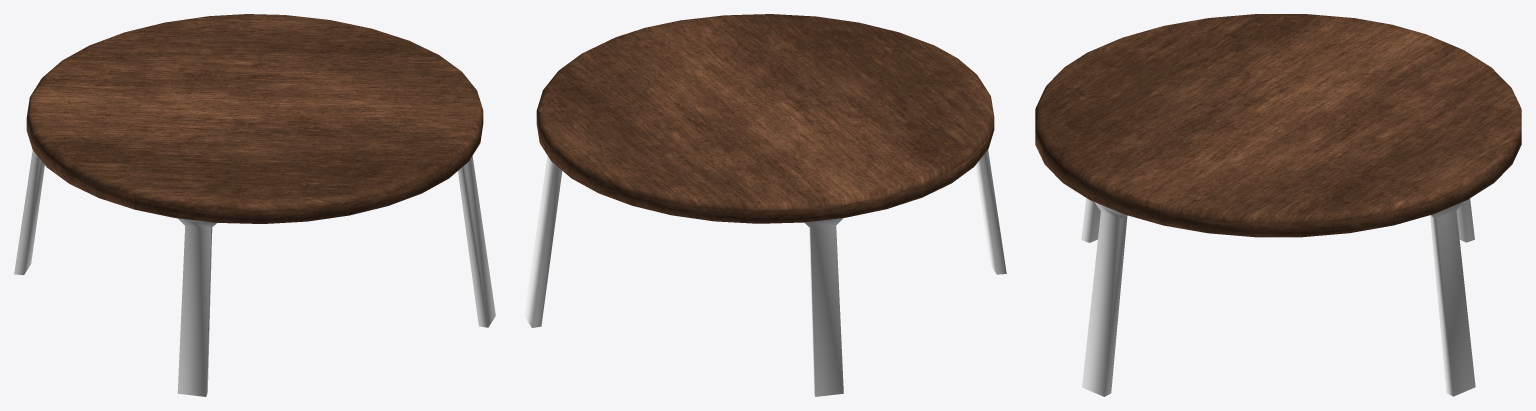
The model's file is Coffeeetable.fbx.
The picture shows the model from 3 angles, left to right: view 1: azimuth 30°, elevation 25°; view 2: azimuth 150°, elevation 25°; view 3: azimuth 270°, elevation 25°; orthographic projection. The views are drawn at different scales.
Parts seen in each view (by area): view 1: table_top, legs; view 2: table_top, legs; view 3: table_top, legs.
Boxes of the visible parts, x1,y1,x2,y2 form: table_top: (26, 14, 483, 223); legs: (14, 150, 495, 396); table_top: (536, 14, 994, 223); legs: (524, 149, 1006, 396); table_top: (1035, 14, 1521, 237); legs: (1081, 198, 1475, 396).
Bounding box in the file's own units: 74.65 × 33.72 × 74.65.
2 materials, 1 textured.
